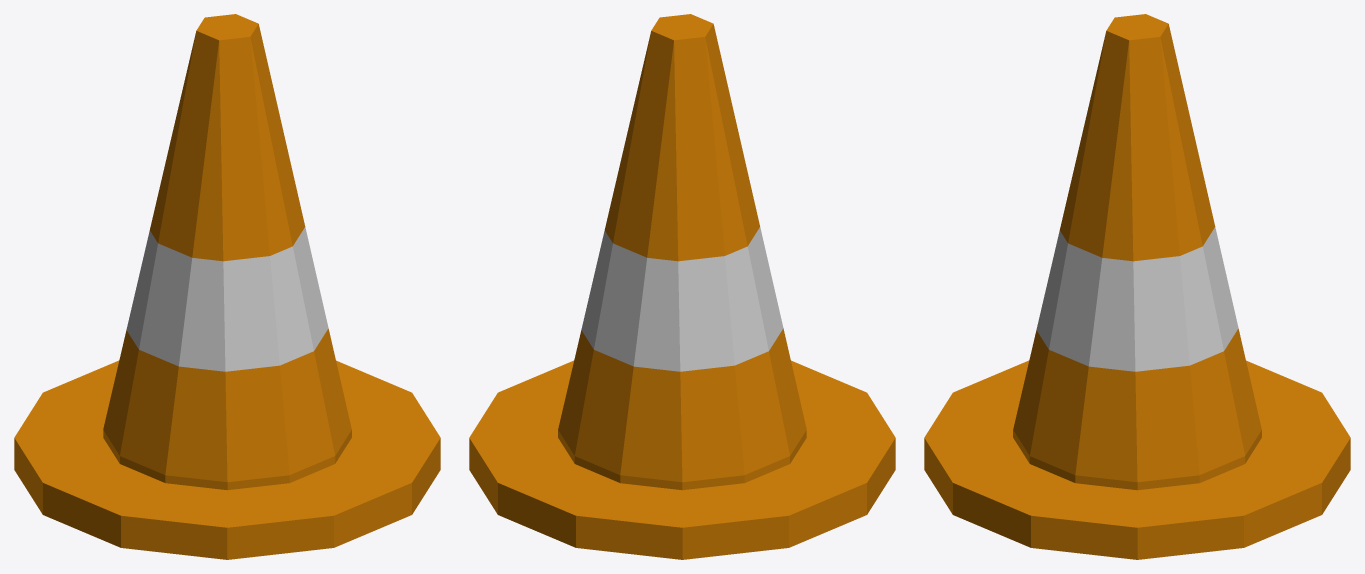
3 renders of one model, left to right at view 1: azimuth 30°, elevation 25°; view 2: azimuth 150°, elevation 25°; view 3: azimuth 270°, elevation 25°, orthographic.
Parts seen in each view (by area): view 1: node_MeshObject-1273637184-PolyPaper13; view 2: node_MeshObject-1273637184-PolyPaper13; view 3: node_MeshObject-1273637184-PolyPaper13.
Part boxes in pixels (x1,y1,x2,y2): node_MeshObject-1273637184-PolyPaper13: (14,14,440,559); node_MeshObject-1273637184-PolyPaper13: (469,14,895,559); node_MeshObject-1273637184-PolyPaper13: (924,14,1350,559).
Size of the model in its own units: 0.24 by 0.2749 by 0.24.
